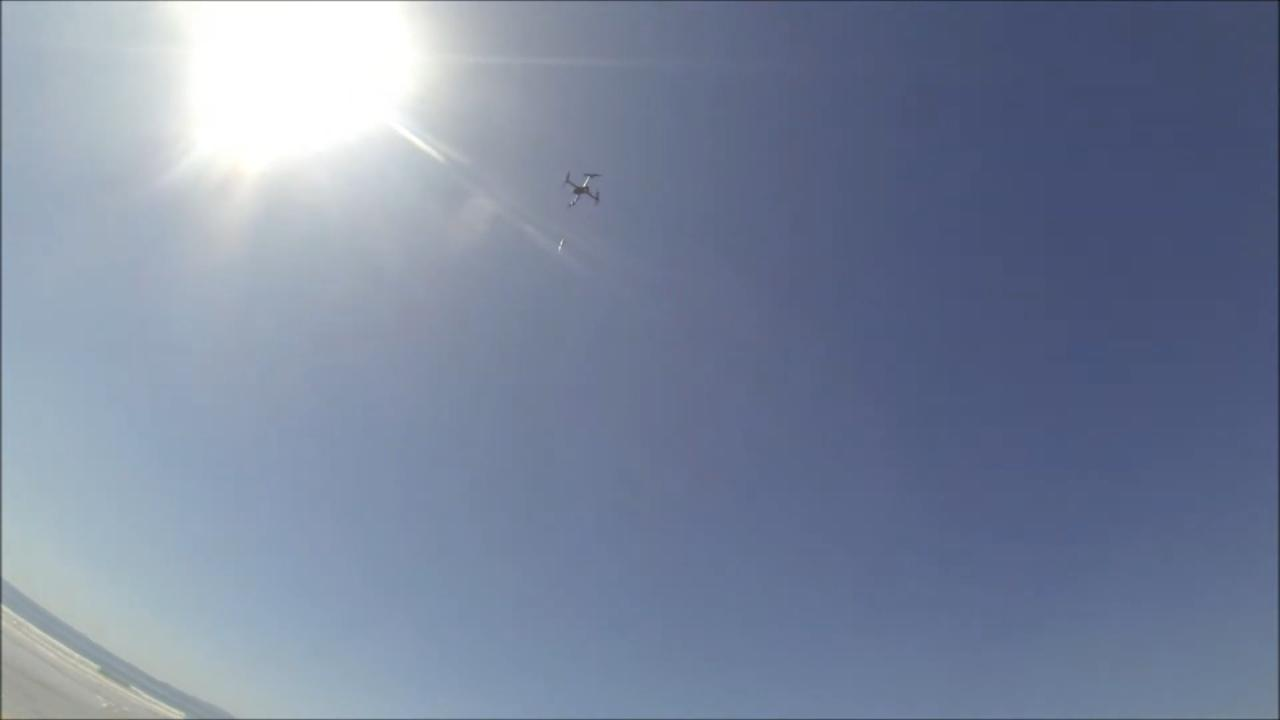Drone: (553, 156, 614, 220)
